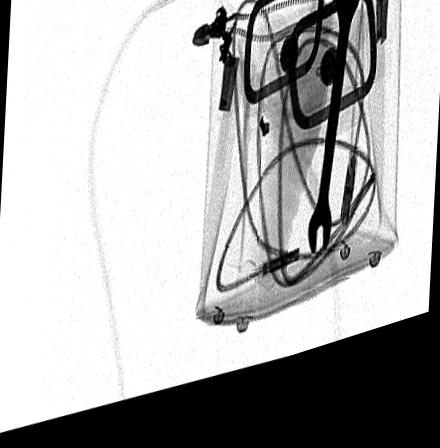Wrench: (308, 0, 360, 275)
